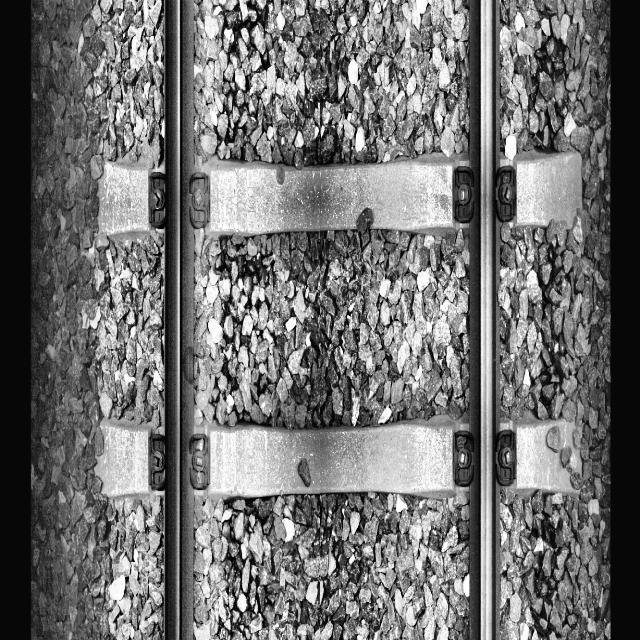Clips: (494, 429, 517, 487), (495, 164, 517, 223), (188, 432, 210, 490), (452, 166, 474, 223), (452, 430, 474, 486), (189, 171, 210, 228), (149, 434, 166, 490), (149, 170, 165, 227)
Sleepers: (96, 416, 584, 493), (95, 158, 585, 231)
